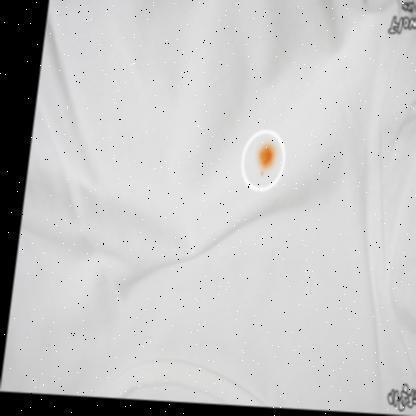kimchi: (252, 144, 276, 175)
